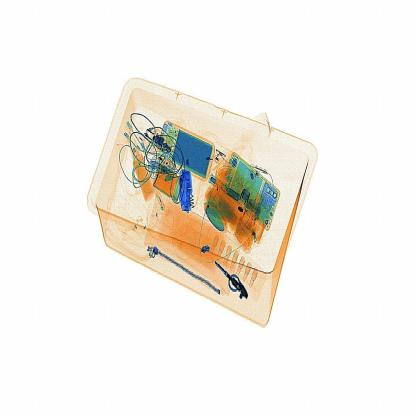scissors: (174, 167, 197, 214)
